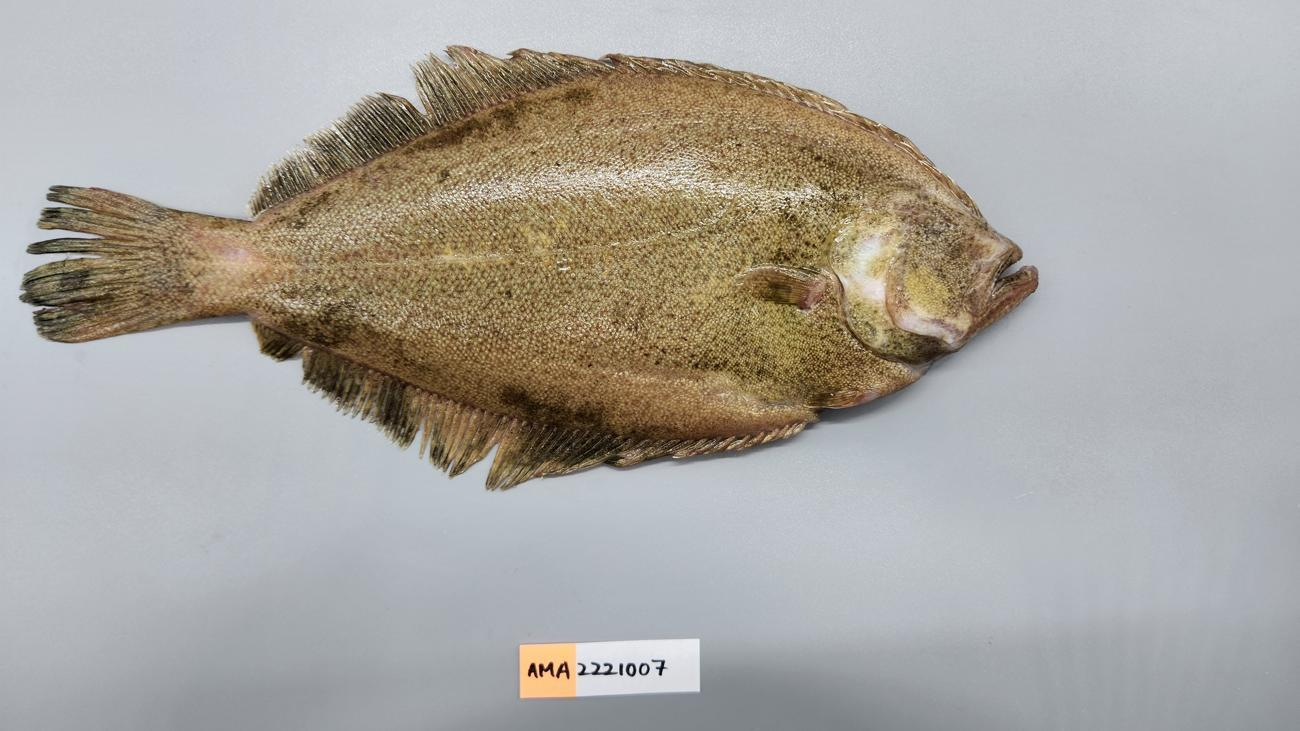MAOUY: (23, 46, 1040, 491)
